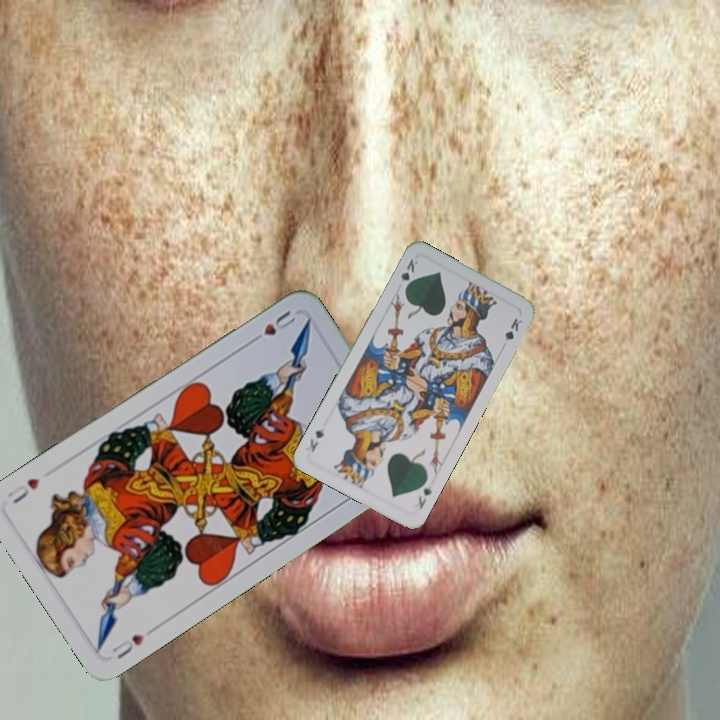GK: (395, 255, 421, 294), (414, 480, 434, 512)
HU: (247, 306, 299, 347), (108, 629, 148, 662)
